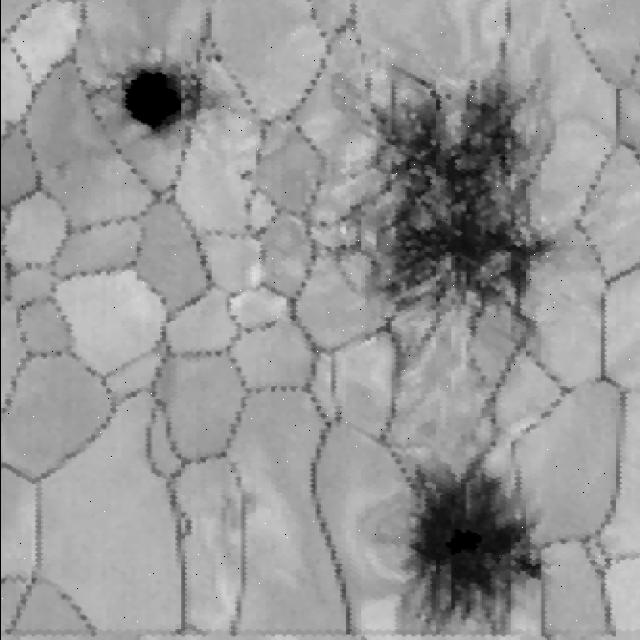good_void: (322, 58, 558, 349), (393, 455, 542, 640), (117, 60, 191, 141), (205, 50, 226, 67), (234, 166, 255, 183), (345, 169, 357, 185), (316, 218, 328, 232)
